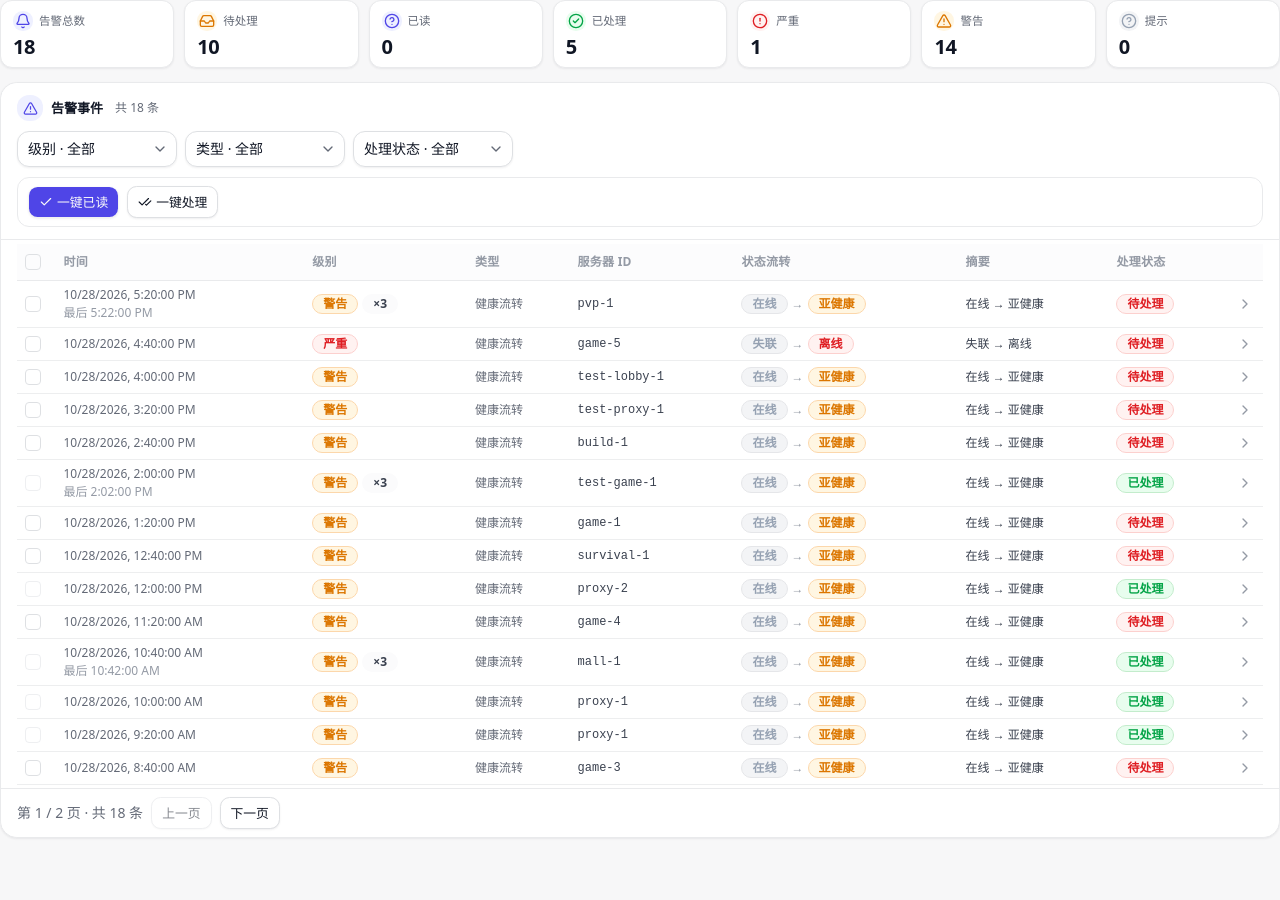
/alert-events 告警事件页 › 点行开右侧非模态详情面板并标记已读（写闭环）
This screenshot has width=1280, height=900.
Expected: the text "待处理" is shown, [1128,294,1164,312]
# 点行 → 固定层详情出现（非 dialog，主表不 reflow）
Step 1. Click the text "待处理" → (640, 304), box [17,280,1263,327]
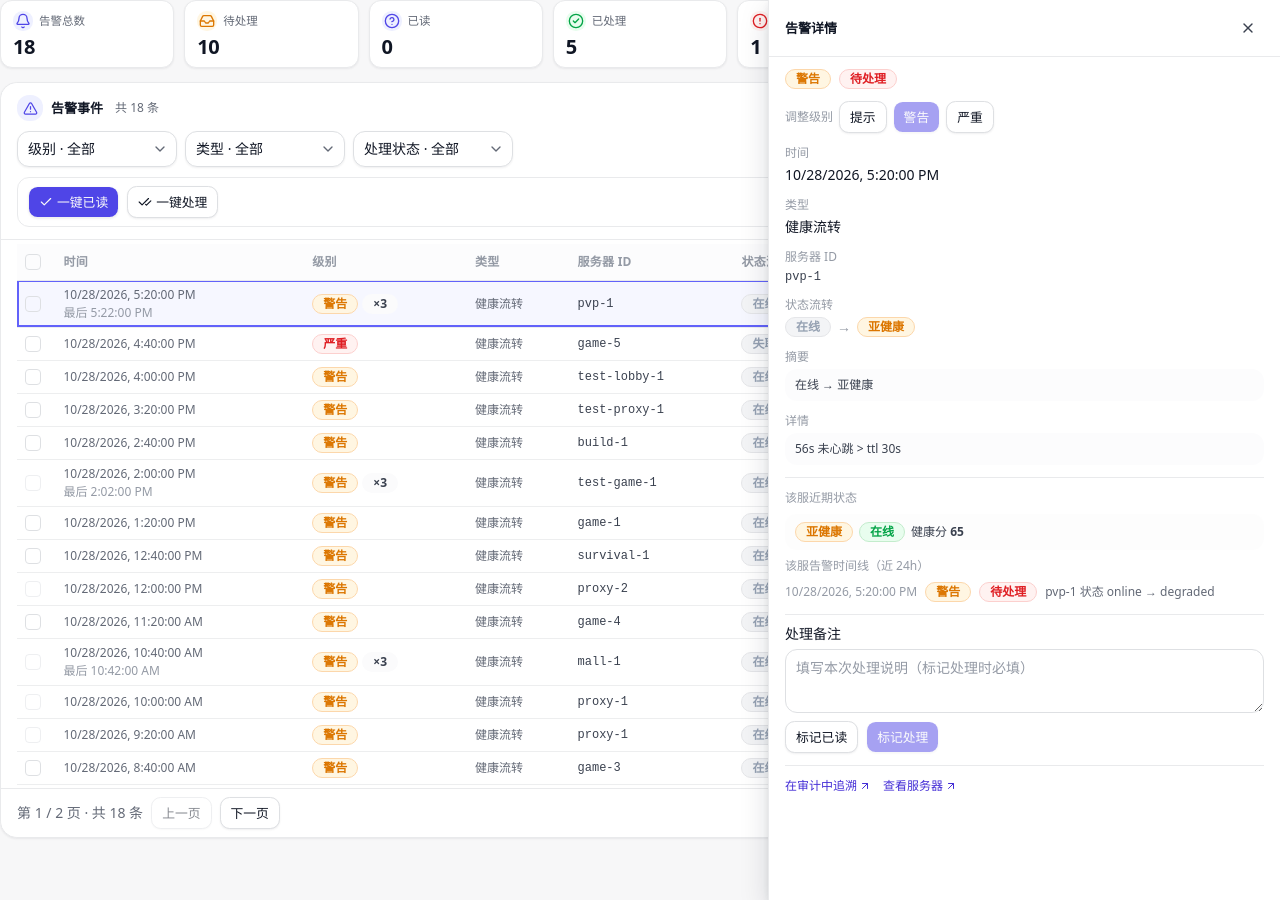
Expected: the table is shown, [17,244,1263,788]
Now the text "告警详情" is shown, box [785,19,837,37]
# 面板内点「标记已读」完成写闭环
Step 2. Click the button "标记已读" → (822, 737), box [785,721,858,753]
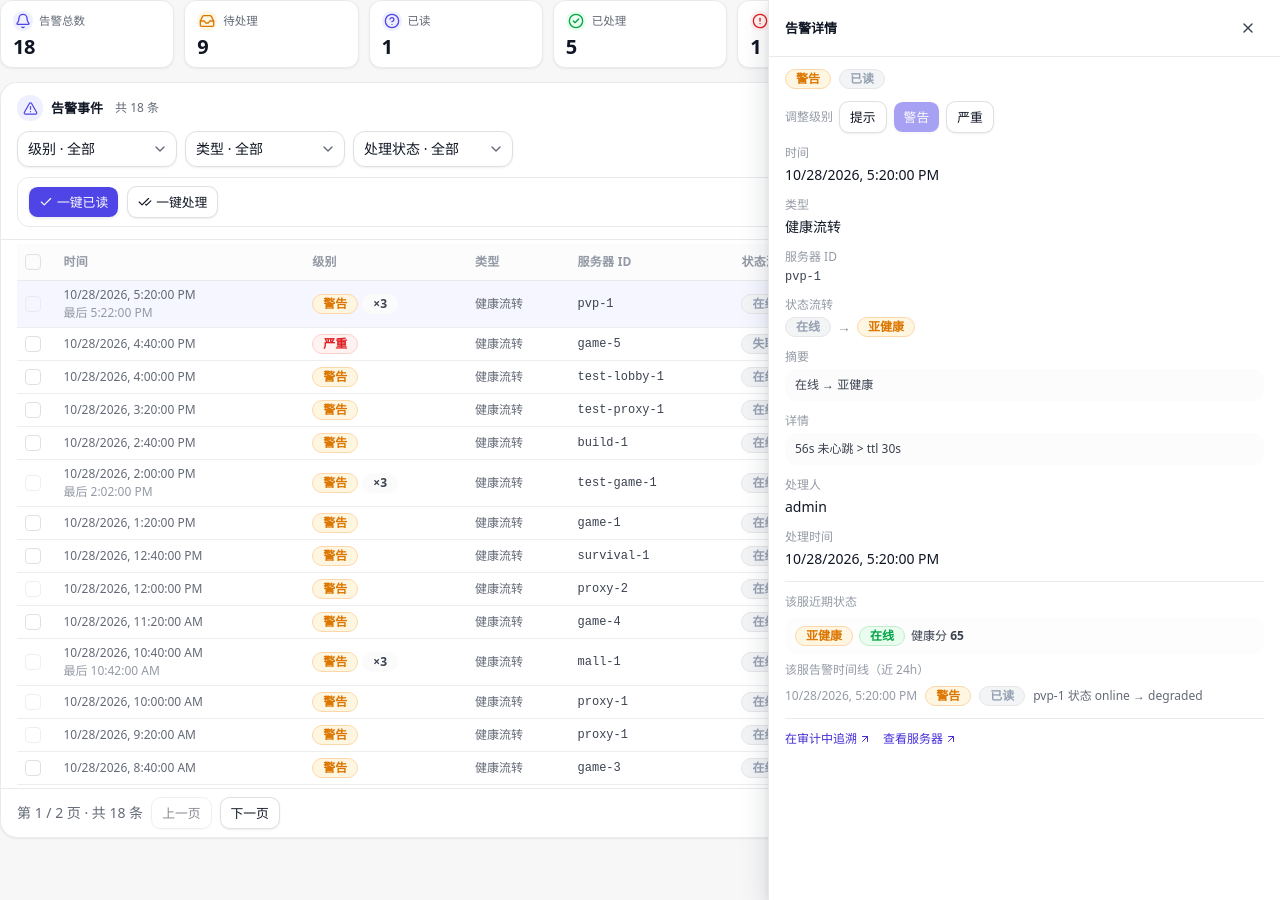
Now the 1st icon "已读" is shown, box [839,69,885,89]
